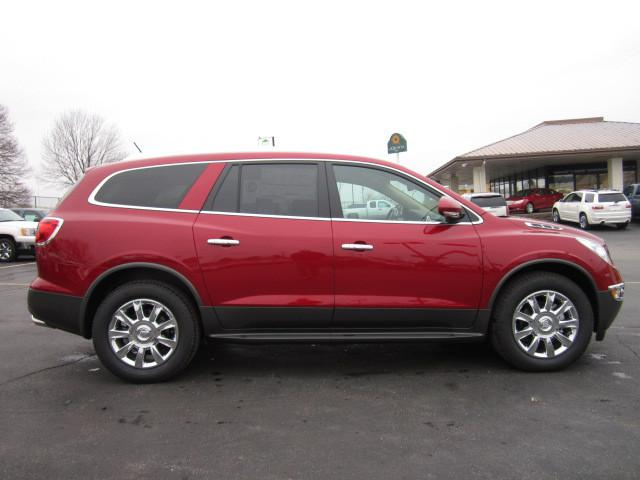Car: (27, 145, 637, 410), (548, 174, 639, 247), (0, 190, 61, 272), (496, 175, 564, 227)
